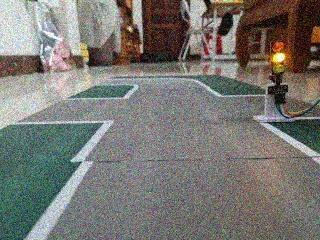yellow: (261, 33, 297, 86)
